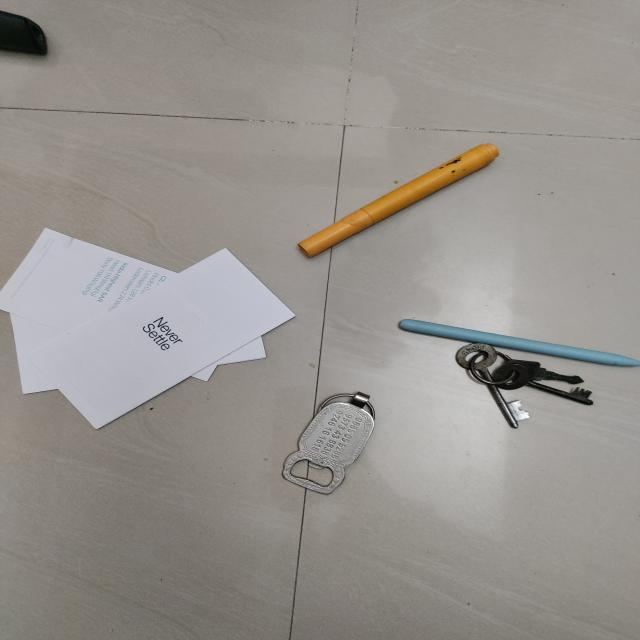dry: (0, 228, 295, 429), (298, 145, 500, 259), (396, 318, 640, 366), (455, 344, 591, 428), (283, 391, 376, 497), (0, 6, 52, 56)
